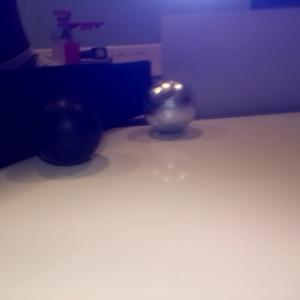alive_ball: (143, 79, 195, 133)
dead_ball: (31, 97, 101, 165)
